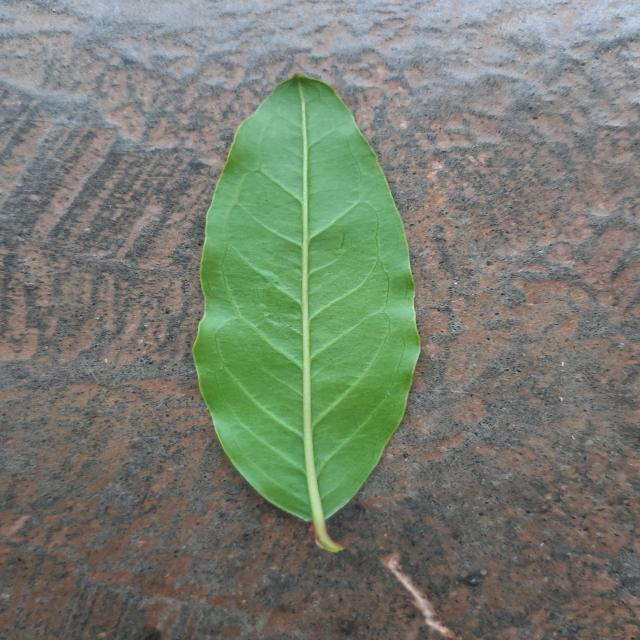pomgranate: (193, 76, 420, 552)
